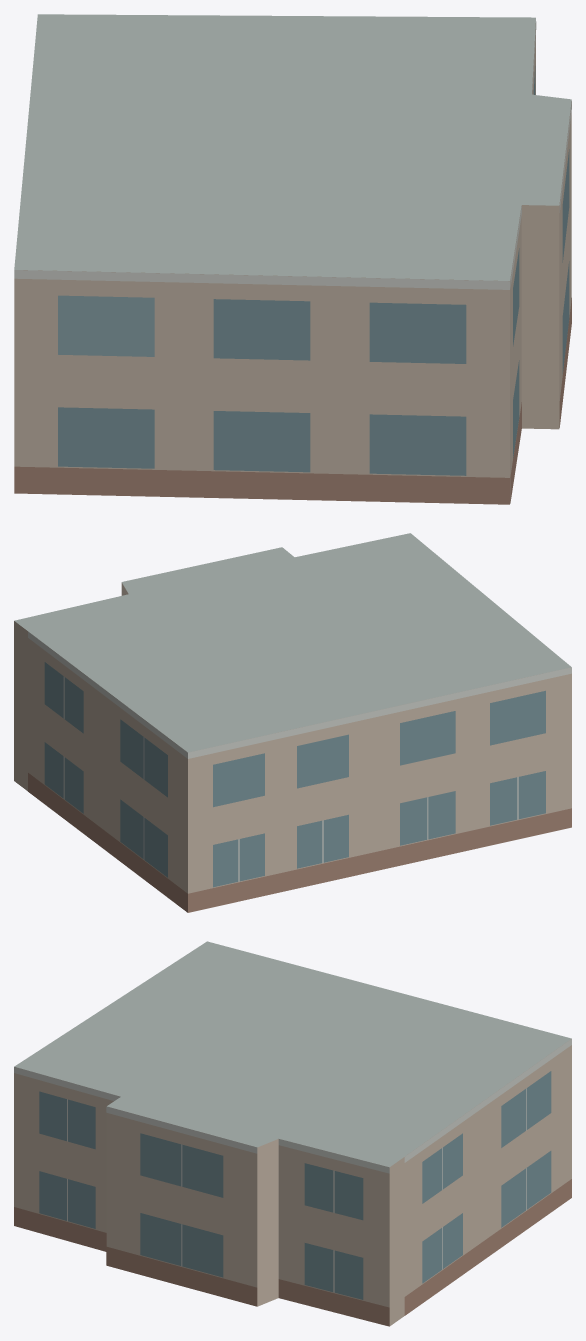
The model's file is survey-upis-32497602.glb.
The picture shows the model from 3 angles, top to bottom: view 1: azimuth 30°, elevation 25°; view 2: azimuth 150°, elevation 25°; view 3: azimuth 270°, elevation 25°; orthographic projection. The views are drawn at different scales.
Visible parts, largest first — view 1: survey-upis-32497602.tmp; view 2: survey-upis-32497602.tmp; view 3: survey-upis-32497602.tmp.
Boxes of the visible parts, left/top/right/bottom form: survey-upis-32497602.tmp: left=14, top=14, right=571, bottom=504; survey-upis-32497602.tmp: left=14, top=533, right=571, bottom=912; survey-upis-32497602.tmp: left=14, top=941, right=571, bottom=1326.
Size of the model in its own units: 18.57 by 6.1 by 19.37.
